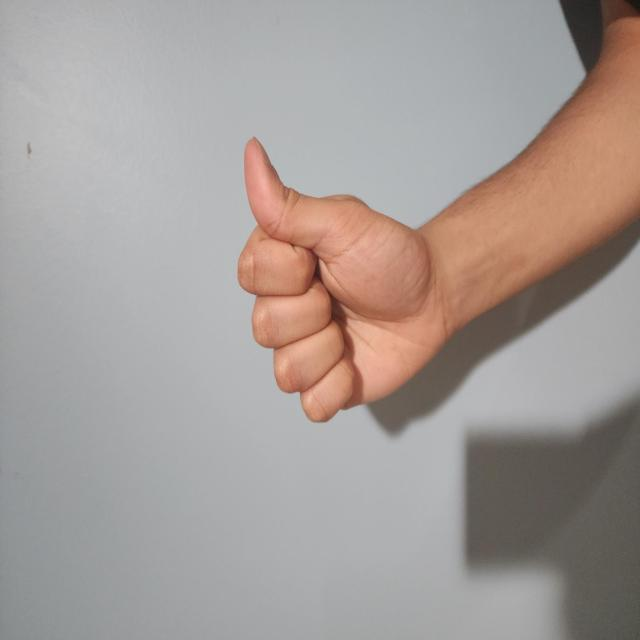A: (161, 313, 380, 613)
